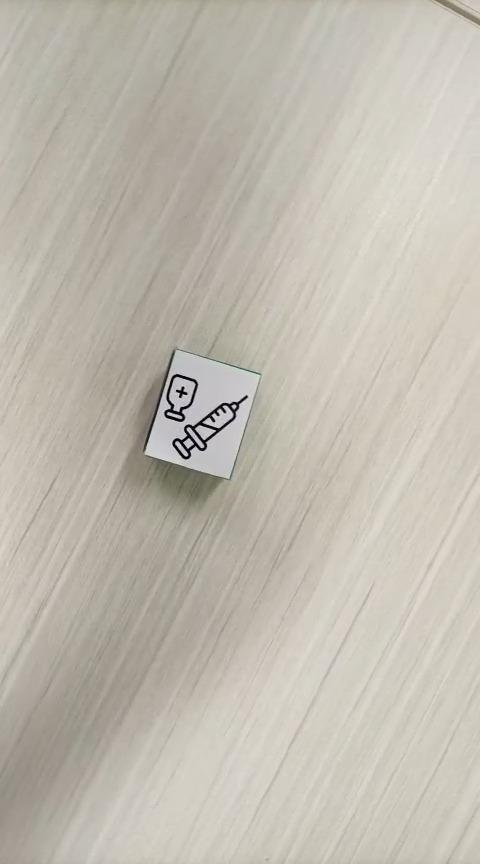antiseptic cream: (141, 346, 262, 481)
